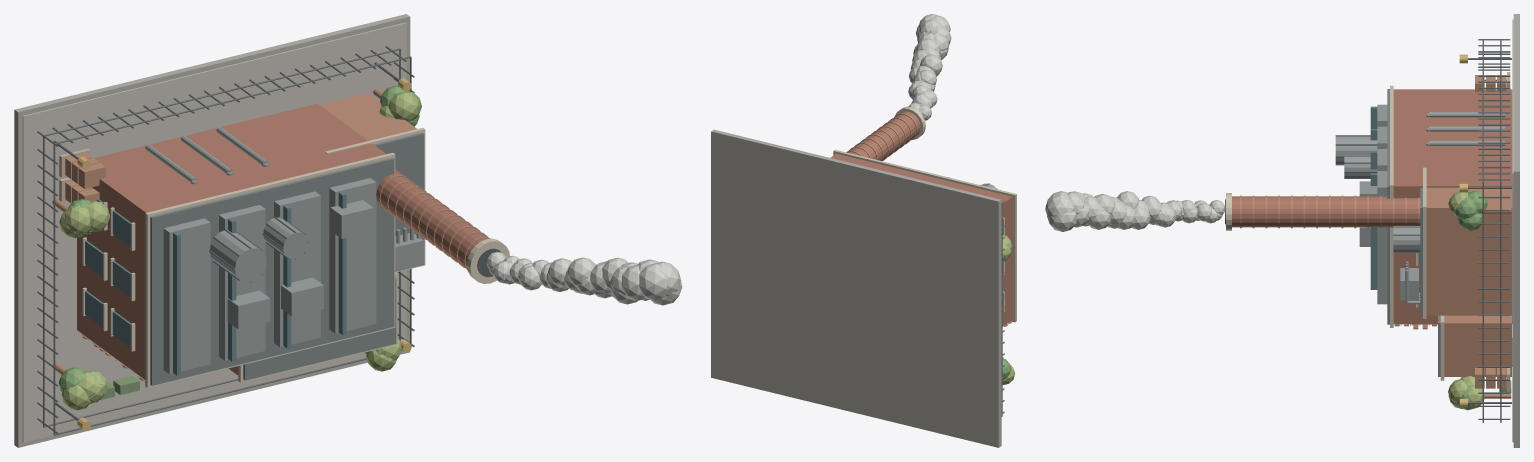
File: factory.glb
The picture shows the model from 3 angles, left to right: view 1: azimuth 30°, elevation 25°; view 2: azimuth 150°, elevation 25°; view 3: azimuth 270°, elevation 25°; orthographic projection. The views are drawn at different scales.
Visible parts, largest first — view 1: 0001_paving, 0002_factory_main, 0006_roof_cap, 0000_foundation, 0331_sawtooth_support, 0337_sawtooth_support, 0335_sawtooth_support, 0357_brick_chimney, 0333_sawtooth_support, 0005_cornice, 0010_roof_cap, 0003_rear_annex (+19 smaller); view 2: 0000_foundation, 0002_factory_main, 0357_brick_chimney, 0005_cornice, 0544_fence_rail; view 3: 0002_factory_main, 0003_rear_annex, 0357_brick_chimney, 0004_loading_wing, 0000_foundation, 0337_sawtooth_support, 0005_cornice, 0414_roof_tank, 0001_paving, 0432_roof_tank, 0006_roof_cap, 0423_roof_tank (+5 smaller).
Part boxes in pixels (bbox=[...]): 0001_paving: bbox=[22, 22, 406, 442]; 0002_factory_main: bbox=[77, 103, 386, 379]; 0006_roof_cap: bbox=[150, 158, 394, 385]; 0000_foundation: bbox=[14, 14, 410, 447]; 0331_sawtooth_support: bbox=[163, 218, 210, 374]; 0337_sawtooth_support: bbox=[329, 178, 376, 333]; 0335_sawtooth_support: bbox=[274, 191, 320, 347]; 0357_brick_chimney: bbox=[376, 171, 487, 267]; 0333_sawtooth_support: bbox=[219, 205, 265, 360]; 0005_cornice: bbox=[145, 152, 395, 387]; 0010_roof_cap: bbox=[243, 278, 396, 380]; 0003_rear_annex: bbox=[320, 93, 416, 140]; 0000_foundation: bbox=[711, 129, 1001, 447]; 0002_factory_main: bbox=[830, 153, 1012, 326]; 0357_brick_chimney: bbox=[848, 111, 920, 160]; 0005_cornice: bbox=[833, 149, 1016, 322]; 0544_fence_rail: bbox=[1001, 203, 1002, 416]; 0002_factory_main: bbox=[1393, 89, 1512, 324]; 0003_rear_annex: bbox=[1426, 187, 1512, 315]; 0357_brick_chimney: bbox=[1232, 196, 1420, 227]; 0004_loading_wing: bbox=[1444, 315, 1511, 376]; 0000_foundation: bbox=[1513, 14, 1519, 447]; 0337_sawtooth_support: bbox=[1377, 171, 1387, 304]; 0005_cornice: bbox=[1390, 85, 1393, 327]; 0414_roof_tank: bbox=[1335, 135, 1377, 163]; 0001_paving: bbox=[1512, 19, 1513, 442]; 0432_roof_tank: bbox=[1393, 226, 1420, 253]; 0006_roof_cap: bbox=[1387, 89, 1389, 324]; 0423_roof_tank: bbox=[1344, 155, 1377, 177].
Size of the model in its own units: 22 by 18 by 28.01.
